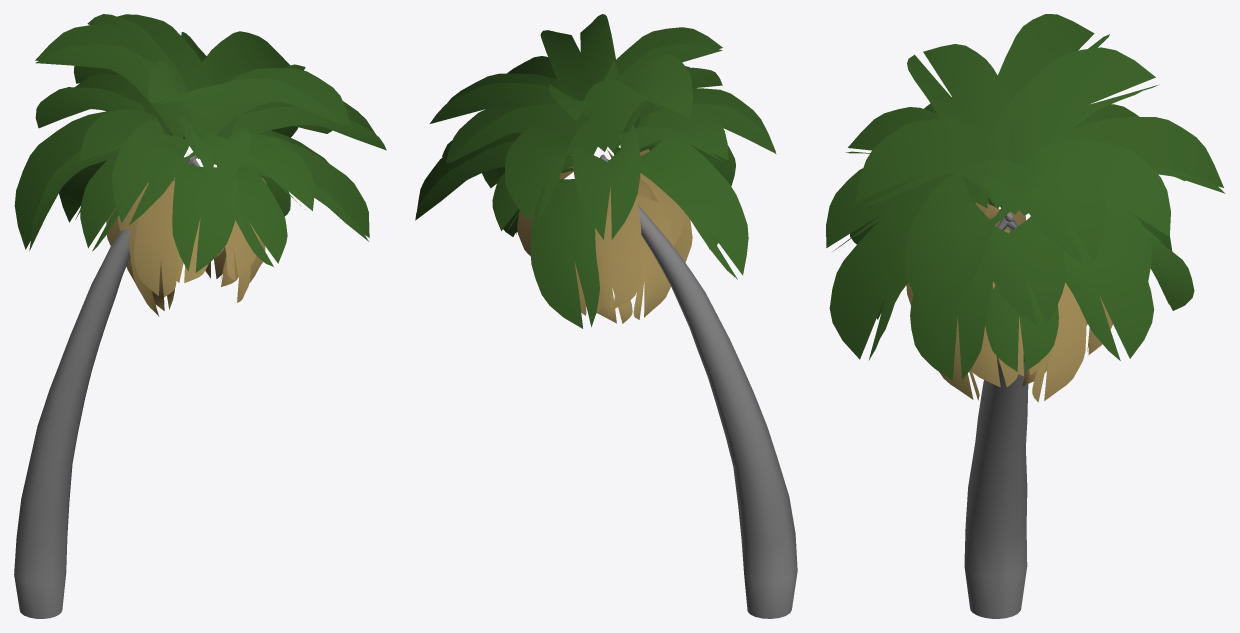
The model's file is SM_palm_tree_desert_03.fbx.
3 views of the same model, side by side, from view 1: azimuth 30°, elevation 25°; view 2: azimuth 150°, elevation 25°; view 3: azimuth 270°, elevation 25° (orthographic). The views are drawn at different scales.
Visible parts, largest first — view 1: Object016; view 2: Object016; view 3: Object016.
Boxes of the visible parts, x1=… form: Object016: x1=14, y1=14, x2=386, y2=618; Object016: x1=415, y1=14, x2=797, y2=618; Object016: x1=826, y1=14, x2=1225, y2=618.
Bounding box in the file's own units: 169 × 252 × 145.
